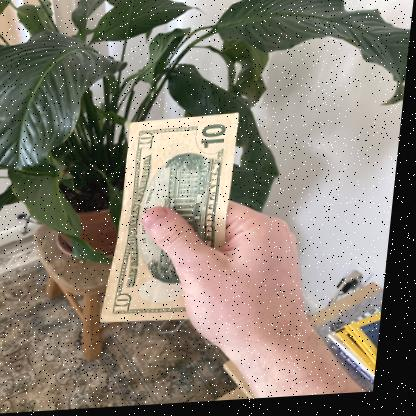ten-back: (107, 114, 248, 326)
